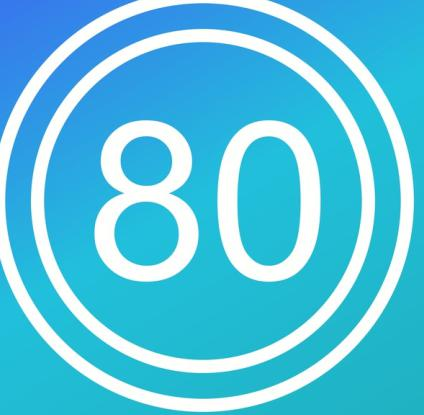Speed Limit -80-: (0, 1, 423, 414)
